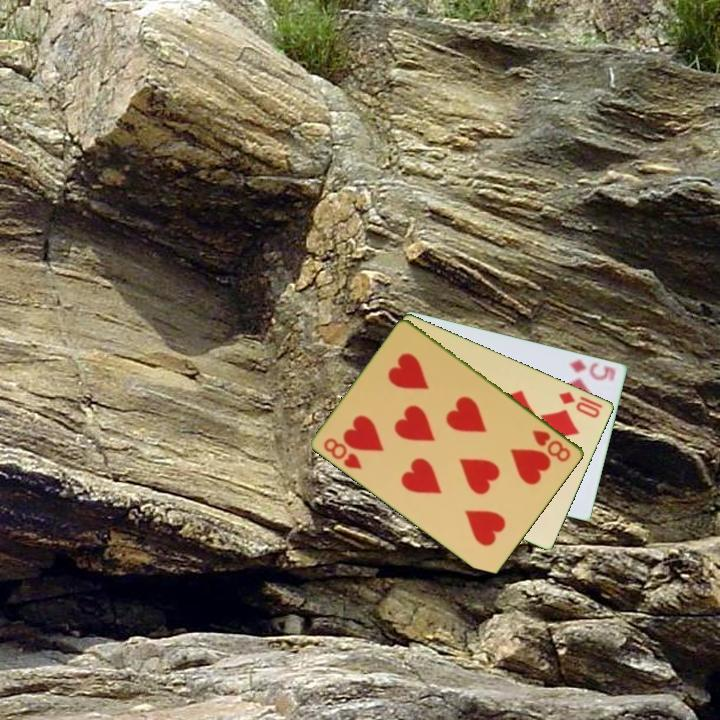10d: (555, 388, 603, 421)
5d: (566, 356, 619, 384)
8h: (529, 426, 574, 465), (320, 434, 365, 472)
